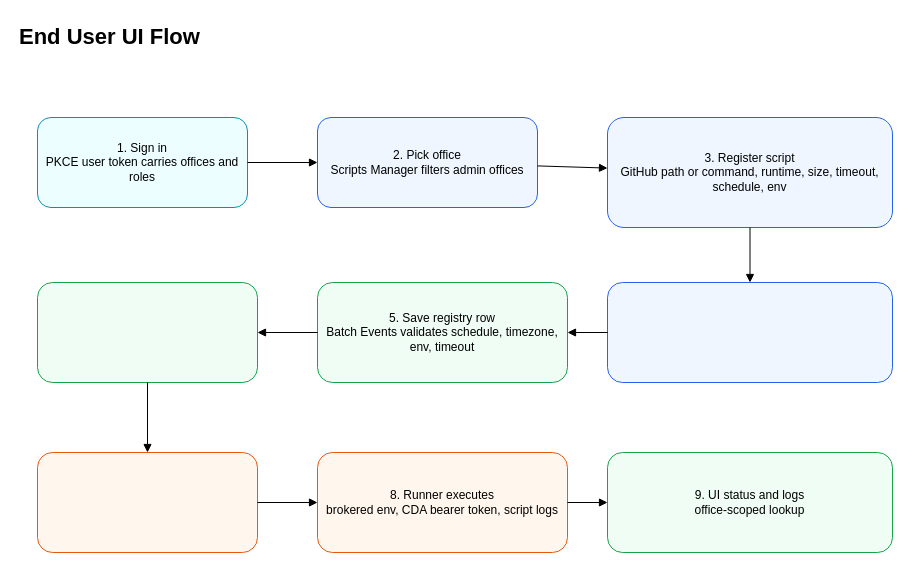
Image size: 910x570. Some labels were removed from this diagram. The box of each missing label's shape, as (x1, y1, x2, y2) in pixels:
4. Browse repository runtime hints, extension-agnostic file picker: (606, 282, 892, 382)
6. Submit job role check, job row, queue: (36, 282, 258, 382)
7. Dispatch shared runtime resource overrides and timeout: (36, 452, 258, 552)
